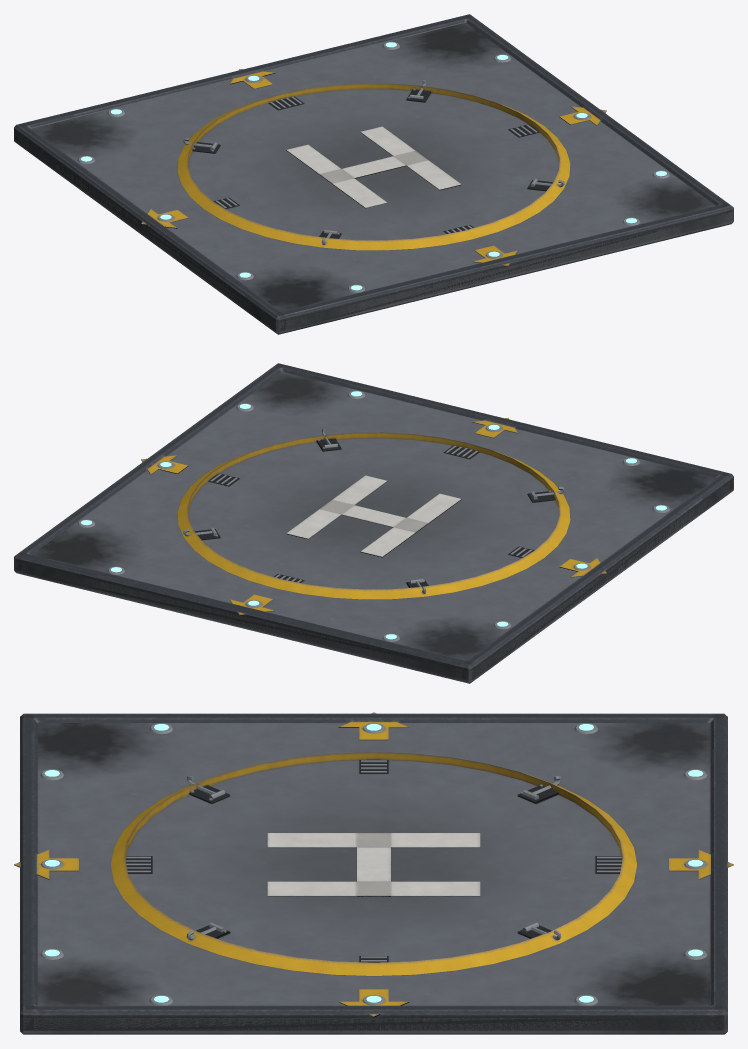
File: plataforma_aterrizaje.fbx
3 renders of one model, top to bottom at view 1: azimuth 30°, elevation 25°; view 2: azimuth 150°, elevation 25°; view 3: azimuth 270°, elevation 25°, orthographic. The views are drawn at different scales.
Visible parts, largest first — view 1: plataforma_aterrizaje, plataforma_aterrizaje_luces_neon; view 2: plataforma_aterrizaje, plataforma_aterrizaje_luces_neon; view 3: plataforma_aterrizaje, plataforma_aterrizaje_luces_neon.
Part boxes in pixels (x1,y1,x2,y2): plataforma_aterrizaje: (14,14,733,334); plataforma_aterrizaje_luces_neon: (81,42,666,290); plataforma_aterrizaje: (14,363,733,683); plataforma_aterrizaje_luces_neon: (81,391,666,639); plataforma_aterrizaje: (14,712,733,1034); plataforma_aterrizaje_luces_neon: (44,724,703,1002).
Bounding box in the file's own units: 12.2 × 0.6152 × 12.2.
2 materials, 1 textured.
